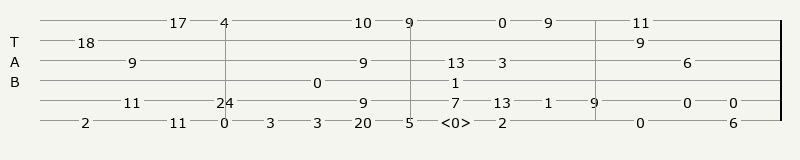0: (220, 113, 233, 127), (313, 73, 326, 87), (498, 13, 511, 27), (636, 113, 649, 127), (683, 93, 696, 107), (729, 93, 742, 107)
1: (451, 73, 464, 87), (544, 93, 557, 107)
10: (354, 13, 376, 27)
11: (123, 93, 145, 107), (169, 113, 191, 127), (632, 13, 654, 27)
13: (447, 53, 469, 67), (493, 93, 515, 107)
17: (169, 13, 191, 27)
18: (77, 33, 99, 47)
2: (81, 113, 94, 127), (498, 113, 511, 127)
20: (354, 113, 376, 127)
24: (216, 93, 238, 107)
3: (266, 113, 279, 127), (313, 113, 326, 127), (498, 53, 511, 67)
4: (220, 13, 233, 27)
5: (405, 113, 418, 127)
6: (683, 53, 696, 67), (729, 113, 742, 127)
7: (451, 93, 464, 107)
9: (128, 53, 141, 67), (359, 53, 372, 67), (359, 93, 372, 107), (405, 13, 418, 27), (544, 13, 557, 27), (590, 93, 603, 107), (636, 33, 649, 47)
harmonic: (440, 113, 475, 127)
